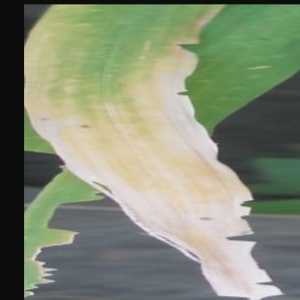Leaf_Blast: (42, 5, 198, 154)
